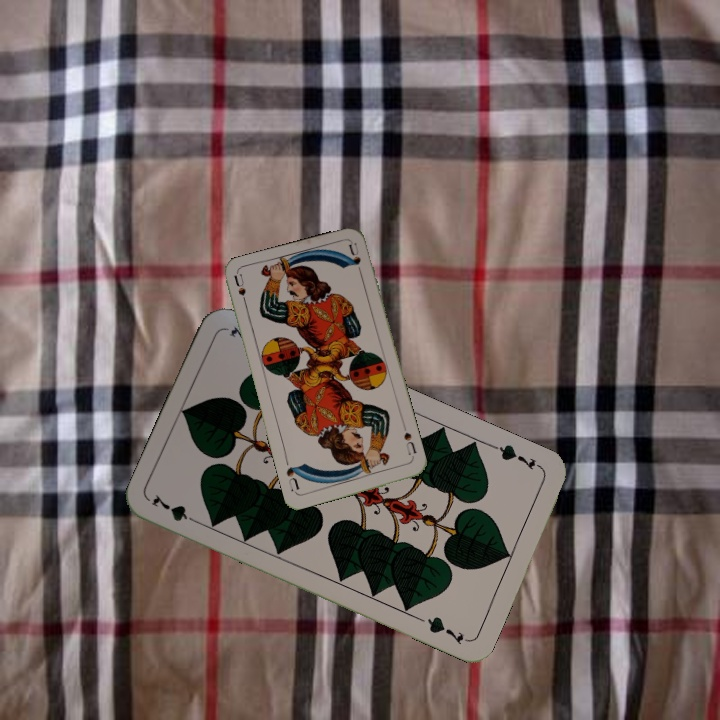G7: (147, 491, 203, 528), (488, 440, 544, 473)
SU: (230, 271, 251, 312), (399, 422, 419, 462)
